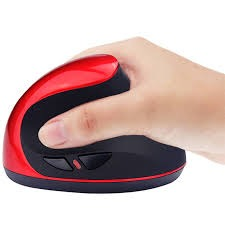mouse: (1, 57, 189, 198)
